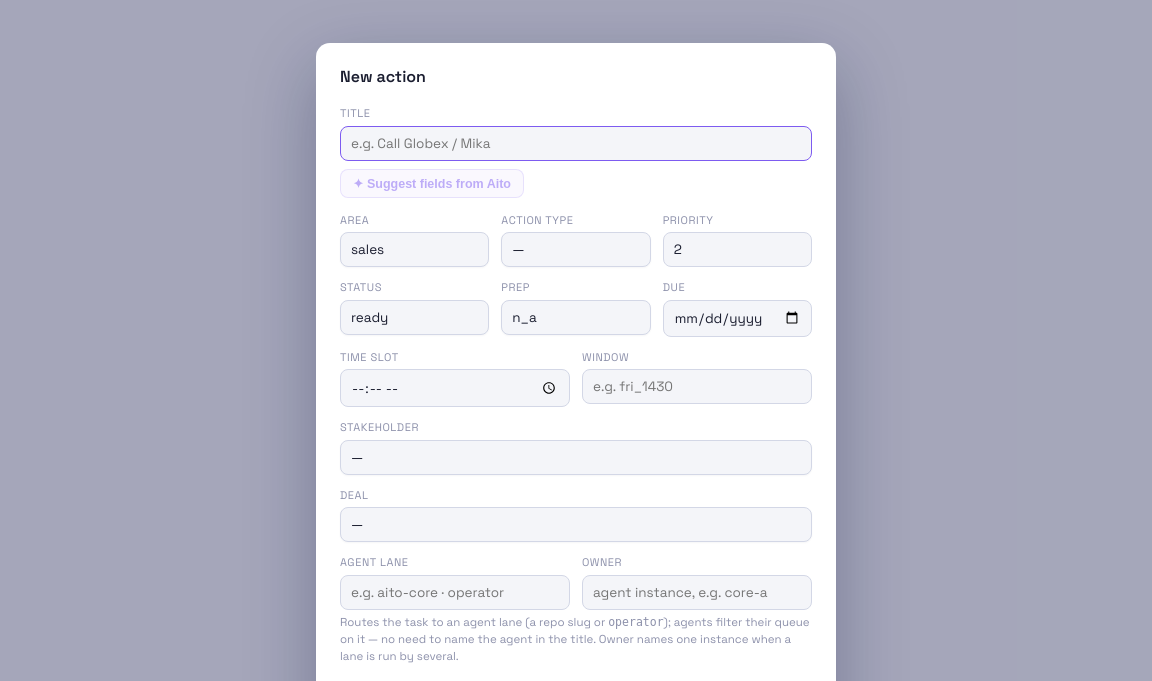
Test case: TodoEditor › surfaces a save error and stays open
expect the heading "New action" is shown: met, box left=340, top=66, right=426, bottom=87
Type "Call X" into the field with placeholder "e.g. Call Globex / Mika".
click(576, 143); type("Call X")  # box left=340, top=126, right=812, bottom=161
(page scrolled)
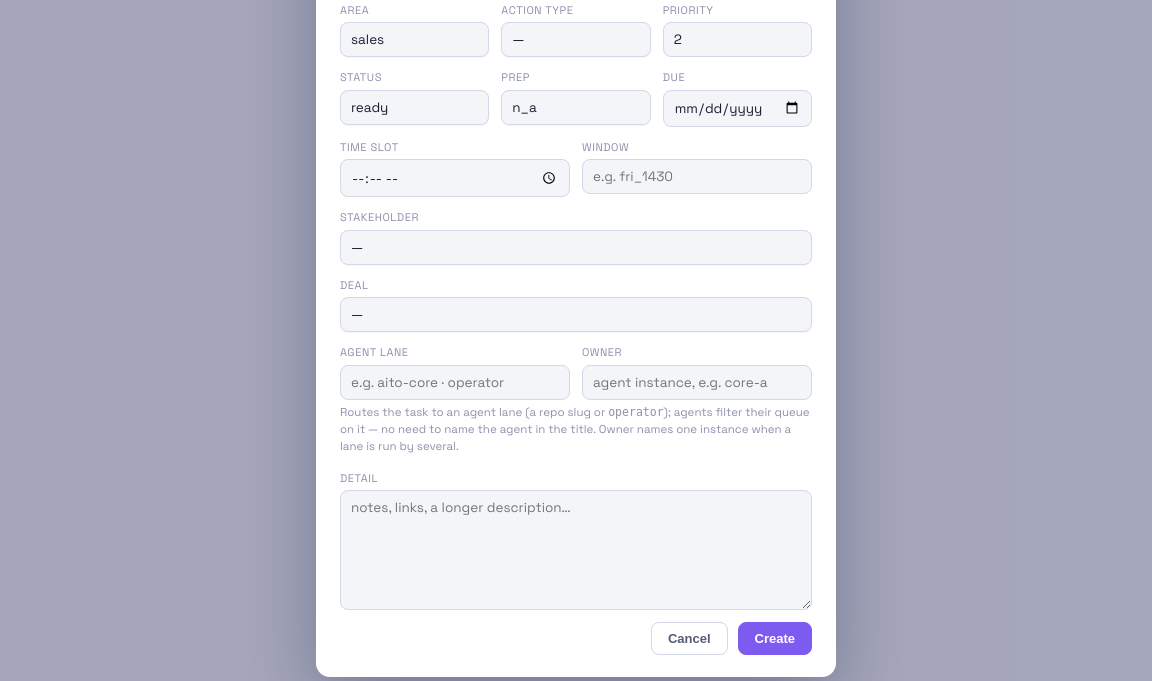
Click the button "Create".
click(775, 639)  # box left=738, top=622, right=812, bottom=655
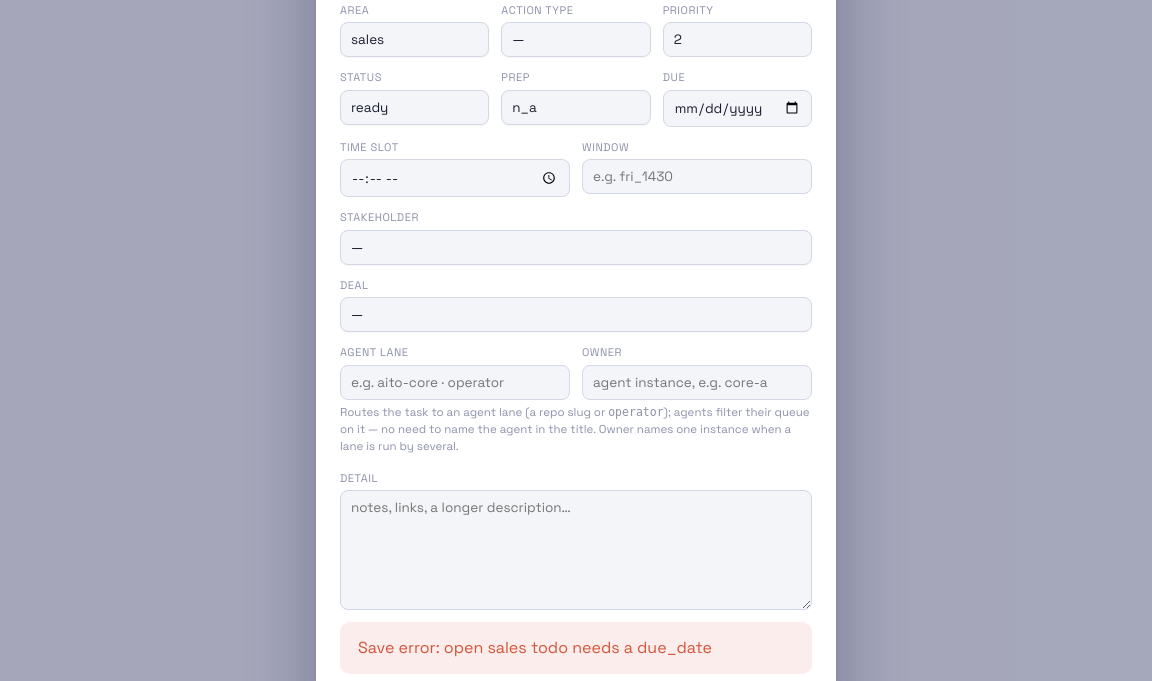
expect the text "Save error: open sales todo needs a due_date" is shown: met, box left=340, top=622, right=812, bottom=674
